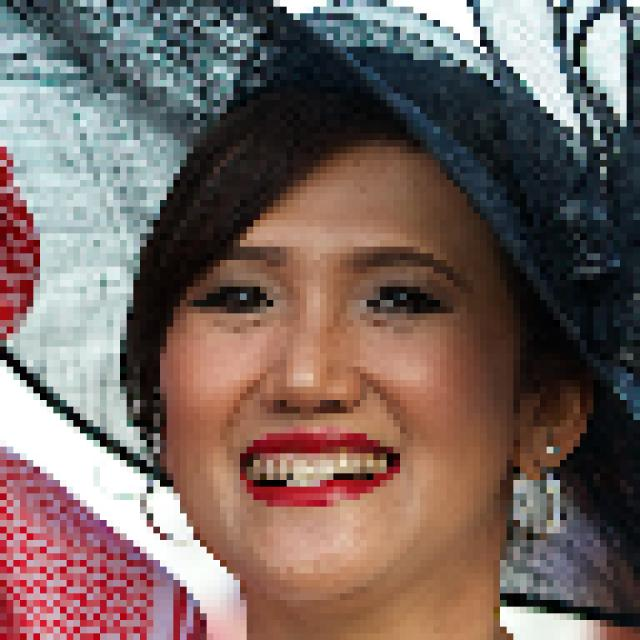happy: (129, 112, 515, 640)
